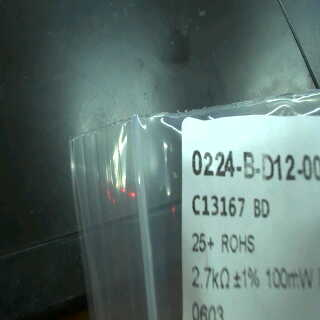2.7kR: (190, 257, 231, 295)
